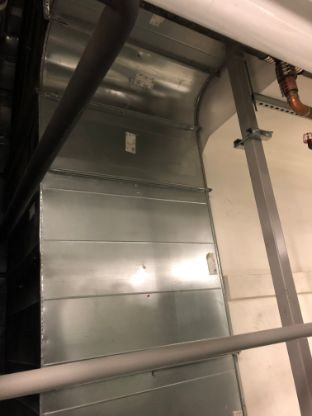Duct: (27, 1, 251, 416)
